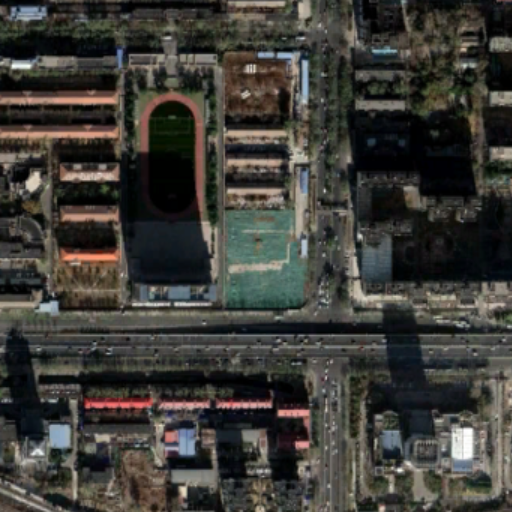cw: (219, 205, 311, 312)
